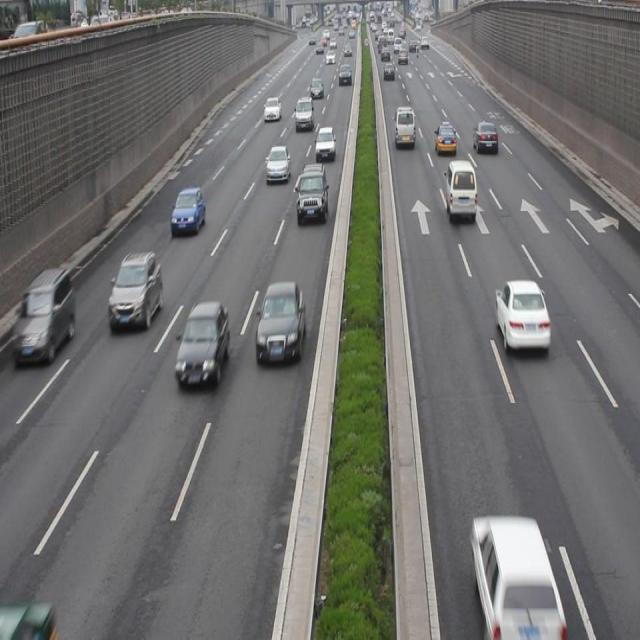car: (470, 511, 562, 640), (16, 265, 75, 364), (174, 298, 228, 387), (108, 248, 162, 330), (254, 279, 305, 363), (495, 278, 548, 351), (296, 163, 327, 222), (171, 186, 205, 236), (266, 144, 290, 182), (314, 125, 336, 161), (434, 122, 456, 157), (473, 122, 497, 154)
truck: (445, 159, 476, 220), (393, 107, 415, 149), (294, 97, 313, 132)
